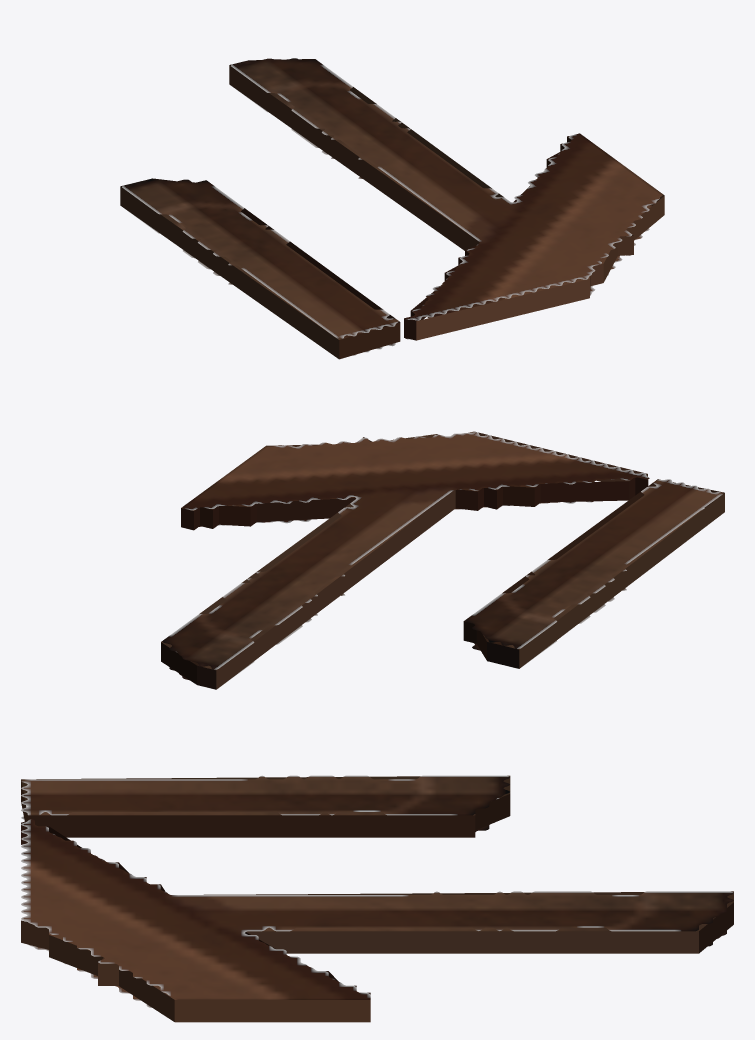
File: pz_native_fixtures_railings_01_100_frame.obj
3 renders of one model, top to bottom at view 1: azimuth 30°, elevation 25°; view 2: azimuth 150°, elevation 25°; view 3: azimuth 270°, elevation 25°, orthographic. The views are drawn at different scales.
Parts seen in each view (by area): view 1: pz_native_fixtures_railings_01_100_frame; view 2: pz_native_fixtures_railings_01_100_frame; view 3: pz_native_fixtures_railings_01_100_frame.
Boxes of the visible parts, box(x1,y1,x2,y2) form: pz_native_fixtures_railings_01_100_frame: box(120, 58, 664, 359); pz_native_fixtures_railings_01_100_frame: box(161, 431, 724, 689); pz_native_fixtures_railings_01_100_frame: box(21, 775, 733, 1022).
Bounding box in the file's own units: 1 × 0.045 × 1.33.
Materials: 1 (1 with a texture image).
